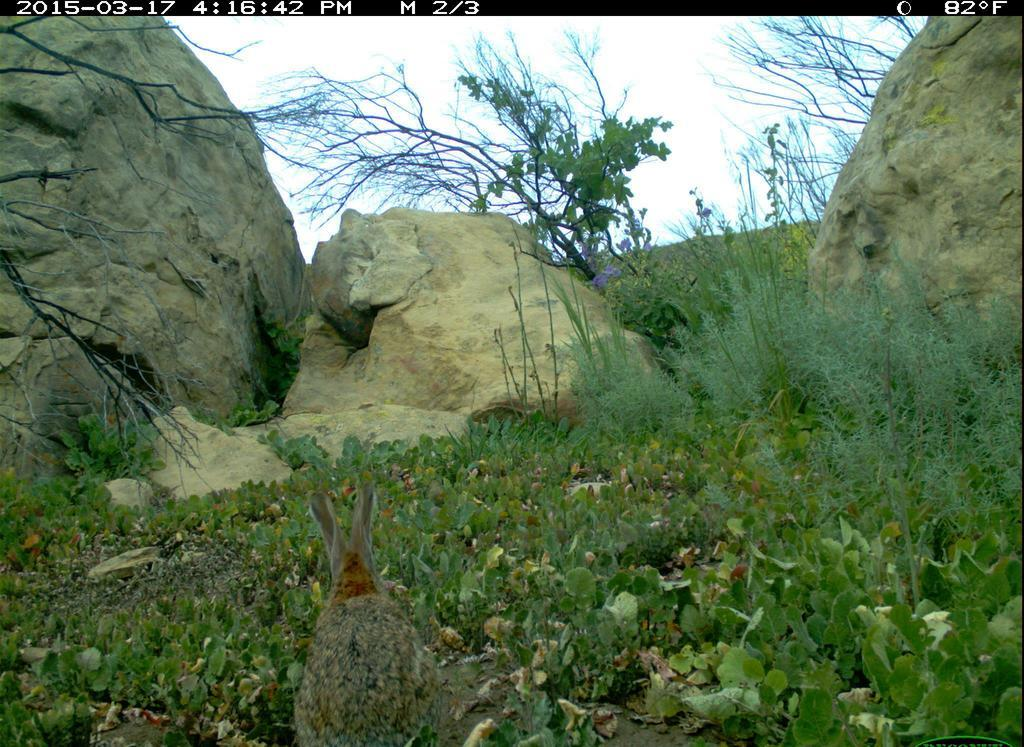rabbit: (283, 467, 448, 747)
